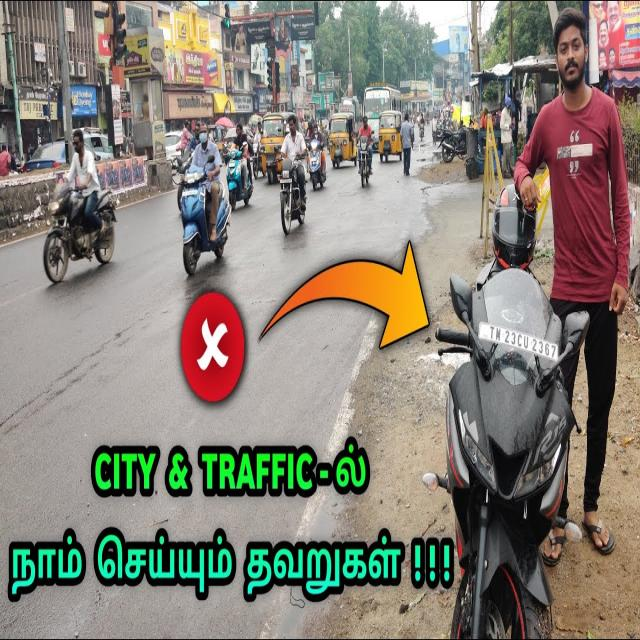bike: (173, 153, 237, 279), (272, 142, 316, 238)
